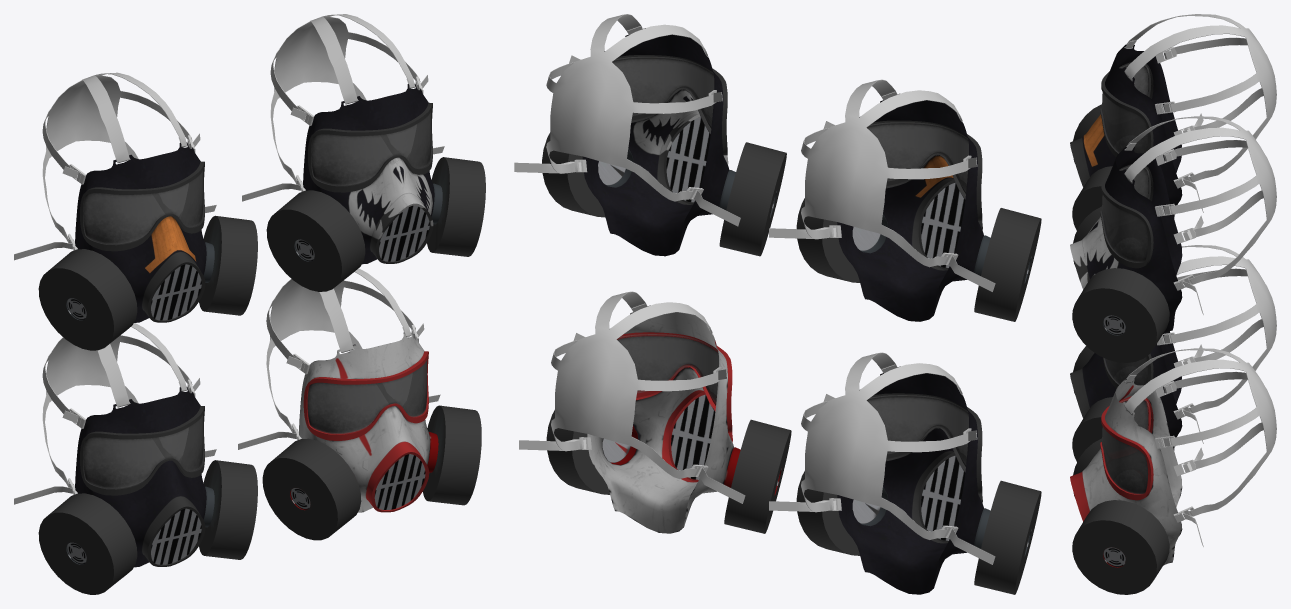
3 views of the same model, side by side, from view 1: azimuth 30°, elevation 25°; view 2: azimuth 150°, elevation 25°; view 3: azimuth 270°, elevation 25° (orthographic). The views are drawn at different scales.
Parts seen in each view (by area): view 1: LP_1_4, LP_1_3, LP_1, LP_1_2, hood_2, hood_3, hood_4, hood; view 2: LP_1, LP_1_2, LP_1_3, LP_1_4, hood_2, hood_3, hood_4, hood; view 3: LP_1_4, LP_1_2, LP_1_3, hood_4, hood_2, hood_3, LP_1, hood, bracing_4, bracing_2, bracing_3, bracing.
Boxes of the visible parts, bbox=[...] form: LP_1_4: bbox=[262, 332, 481, 540]; LP_1_3: bbox=[38, 142, 257, 350]; LP_1: bbox=[38, 387, 257, 594]; LP_1_2: bbox=[266, 84, 485, 291]; hood_2: bbox=[242, 14, 444, 201]; hood_3: bbox=[14, 72, 216, 260]; hood_4: bbox=[238, 268, 440, 449]; hood: bbox=[14, 323, 216, 504]; LP_1: bbox=[796, 366, 1041, 594]; LP_1_2: bbox=[542, 28, 786, 256]; LP_1_3: bbox=[796, 93, 1041, 321]; LP_1_4: bbox=[546, 305, 791, 533]; hood_2: bbox=[514, 14, 740, 226]; hood_3: bbox=[769, 79, 995, 291]; hood_4: bbox=[519, 291, 745, 503]; hood: bbox=[769, 352, 995, 564]; LP_1_4: bbox=[1070, 379, 1182, 594]; LP_1_2: bbox=[1070, 147, 1182, 362]; LP_1_3: bbox=[1070, 44, 1182, 230]; hood_4: bbox=[1124, 348, 1276, 546]; hood_2: bbox=[1124, 116, 1276, 314]; hood_3: bbox=[1124, 14, 1276, 212]; LP_1: bbox=[1070, 331, 1182, 461]; hood: bbox=[1163, 245, 1276, 443]; bracing_4: bbox=[1155, 381, 1196, 522]; bracing_2: bbox=[1155, 149, 1196, 290]; bracing_3: bbox=[1155, 47, 1195, 188]; bracing: bbox=[1157, 332, 1195, 419].
Bounding box in the file's own units: 0.6131 × 0.6387 × 0.2694.
